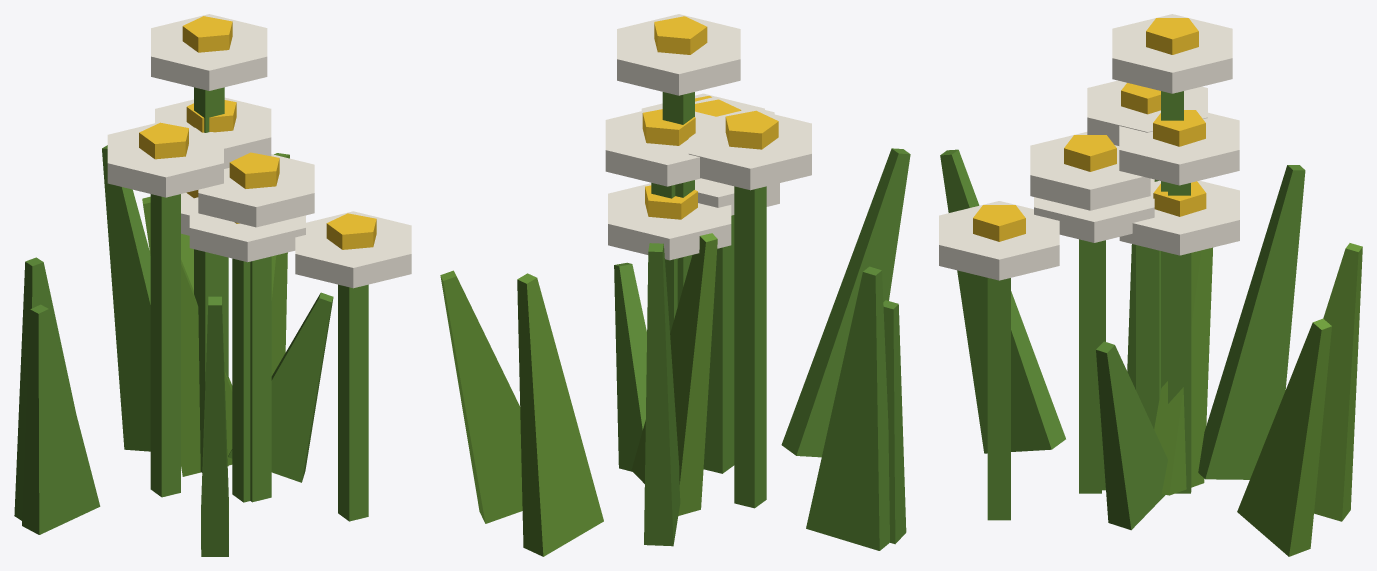
Rendered from Flowers_Daisy.fbx.
The picture shows the model from 3 angles, left to right: view 1: azimuth 30°, elevation 25°; view 2: azimuth 150°, elevation 25°; view 3: azimuth 270°, elevation 25°; orthographic projection. The views are drawn at different scales.
Parts seen in each view (by area): view 1: Flowers_Daisy; view 2: Flowers_Daisy; view 3: Flowers_Daisy.
Boxes of the visible parts, x1,y1,x2,y2 form: Flowers_Daisy: [14, 14, 411, 556]; Flowers_Daisy: [440, 14, 910, 556]; Flowers_Daisy: [939, 14, 1362, 556].
Size of the model in its own units: 0.3594 by 0.4417 by 0.3655.
